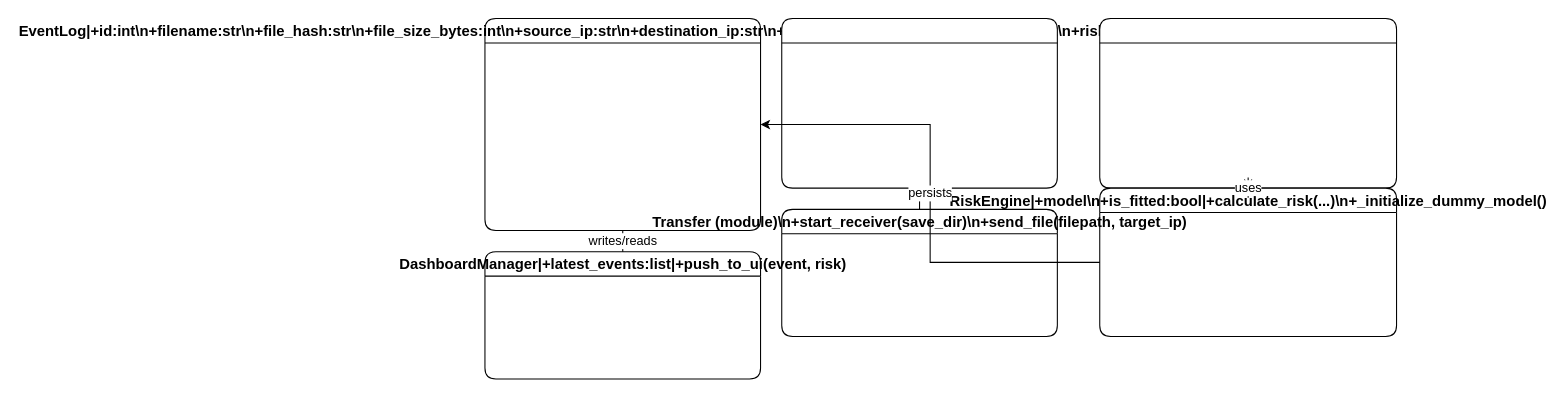
The diagram is 1565 pixels wide and 397 high, and some of its shapes have lost their labels. The box of each missing label's shape, as (x1, y1, x2, y2) in pixels:
RiskMonitorHandler|+source_ip:str\n+user:str|+process(event)\n+on_created(event): (781, 17, 1057, 188)
TransferGraph|+graph:DiGraph|+add_transfer()\n+get_longest_chain()\n+is_cyclic(): (1099, 17, 1397, 188)
